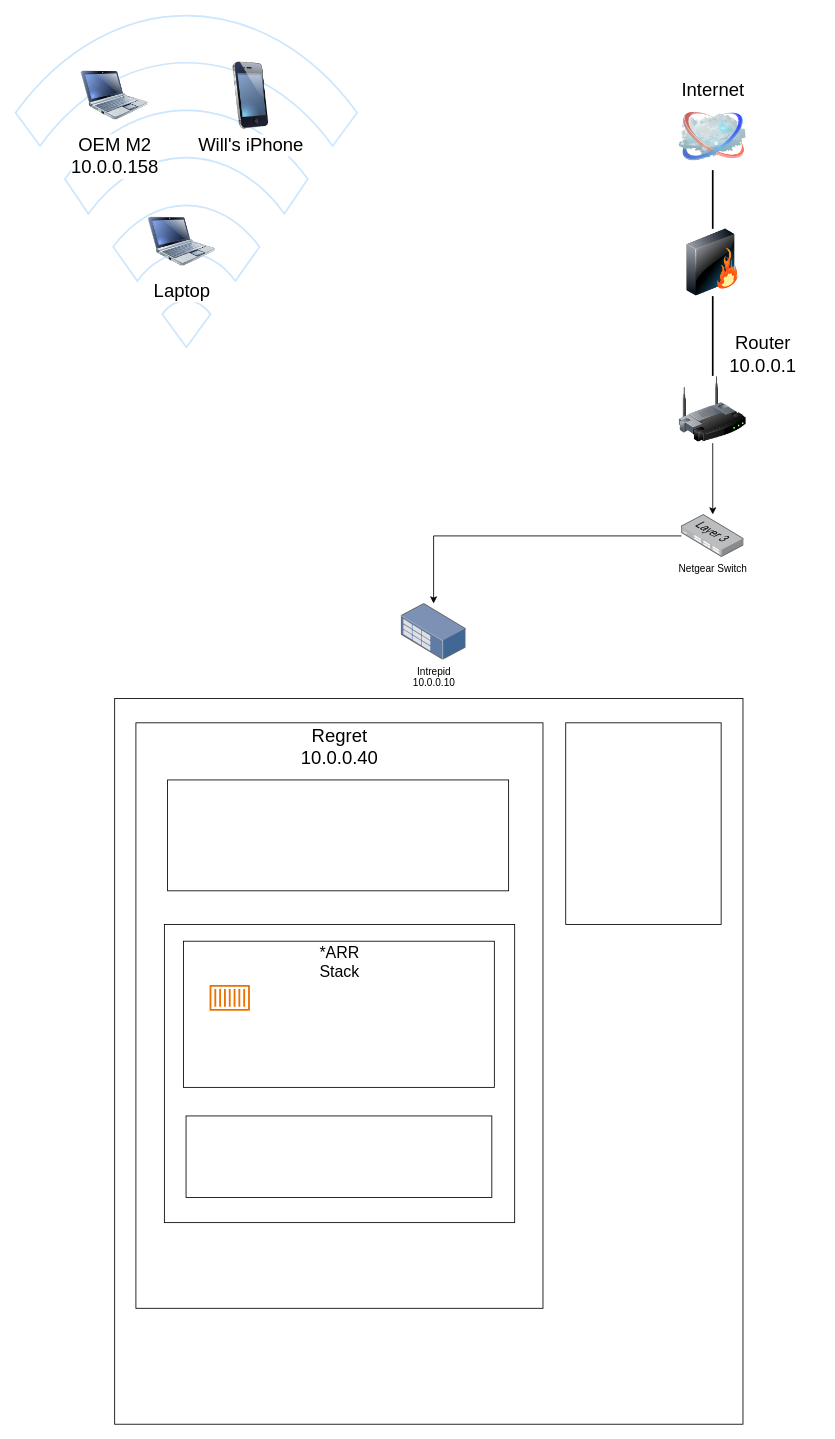
This 835x1439 diagram has some shape labels left out. Each missing label, with the centre of its shape:
"Gateway" goes at pixel 712 262.
"Nginx-Proxy-Manager" goes at pixel 338 1156.
"Plex Server" goes at pixel 338 835.
